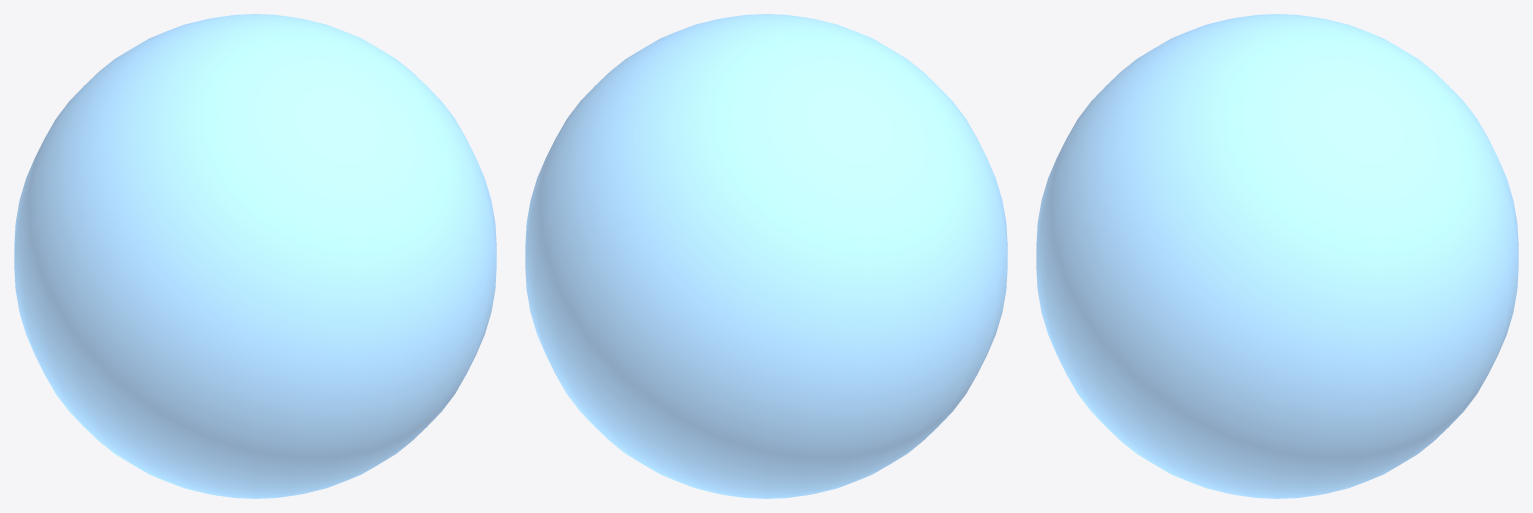
3 views of the same model, side by side, from view 1: azimuth 30°, elevation 25°; view 2: azimuth 150°, elevation 25°; view 3: azimuth 270°, elevation 25° (orthographic).
Visible parts, largest first — view 1: Sphere; view 2: Sphere; view 3: Sphere.
Boxes of the visible parts, bbox=[...] form: Sphere: bbox=[14, 14, 496, 498]; Sphere: bbox=[525, 14, 1007, 498]; Sphere: bbox=[1036, 14, 1518, 498].
Bounding box in the file's own units: 2 × 2 × 1.99.
